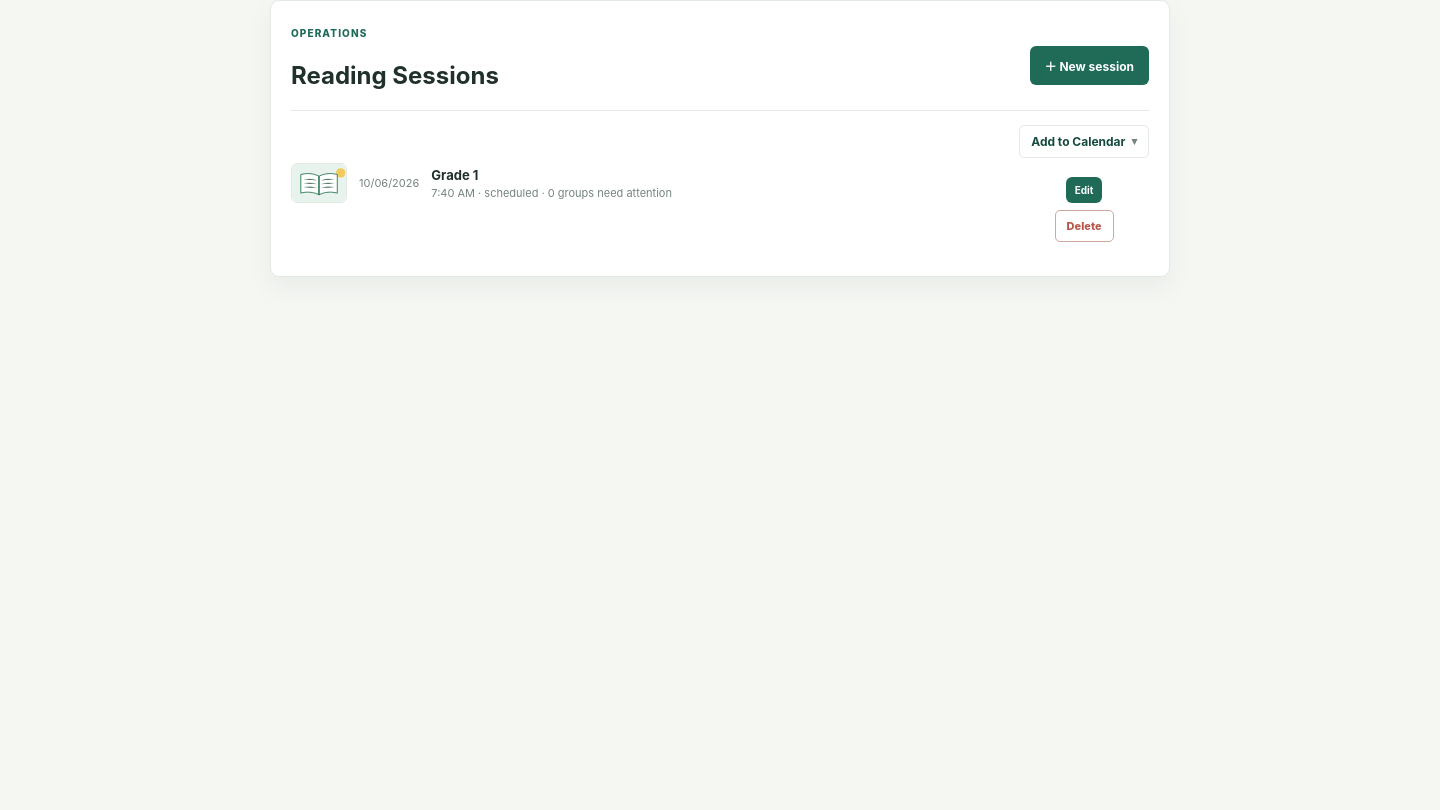
Test: cancels a reading session only after explicit confirmation
Click the button with aria-label "delete reading session".
click(1084, 226)  # box top-left (1055, 210), bottom-right (1114, 242)
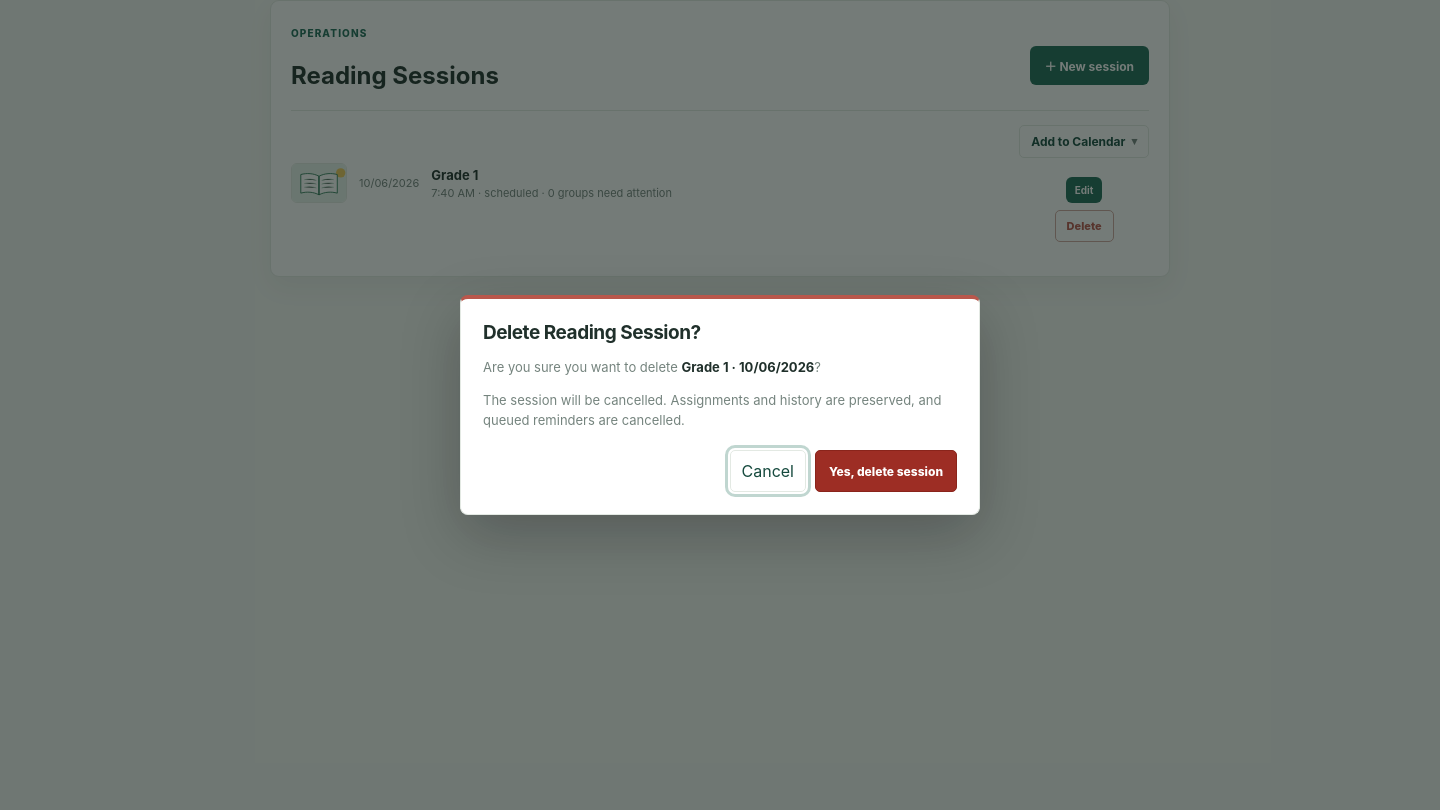
Check: the dialog shows "Assignments and history are preserved", box top-left (483, 392), bottom-right (941, 428)
Click the button "Yes, delete session".
click(886, 471)  # box top-left (815, 450), bottom-right (957, 492)
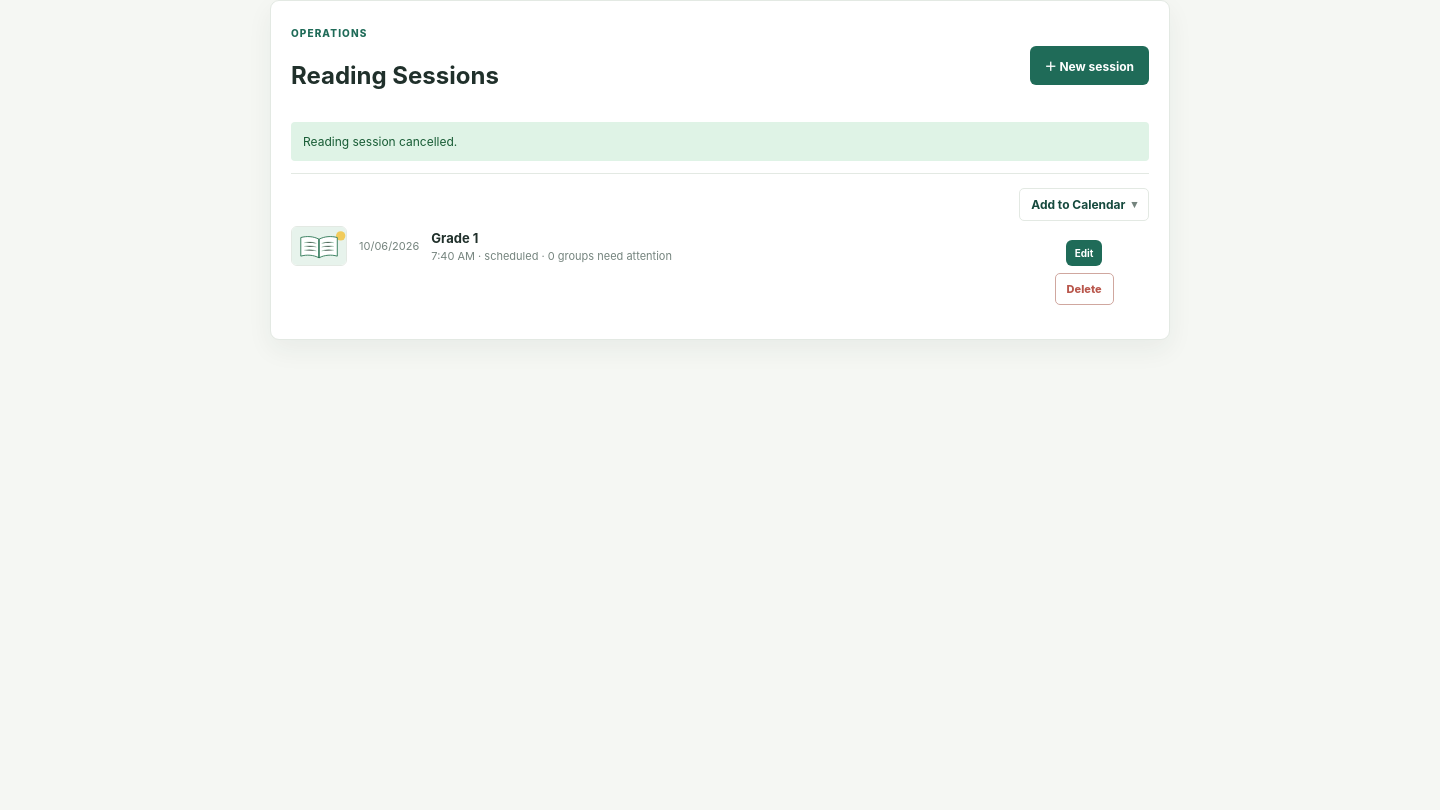
Check: the message reads "Reading session cancelled.", box top-left (303, 134), bottom-right (457, 149)
